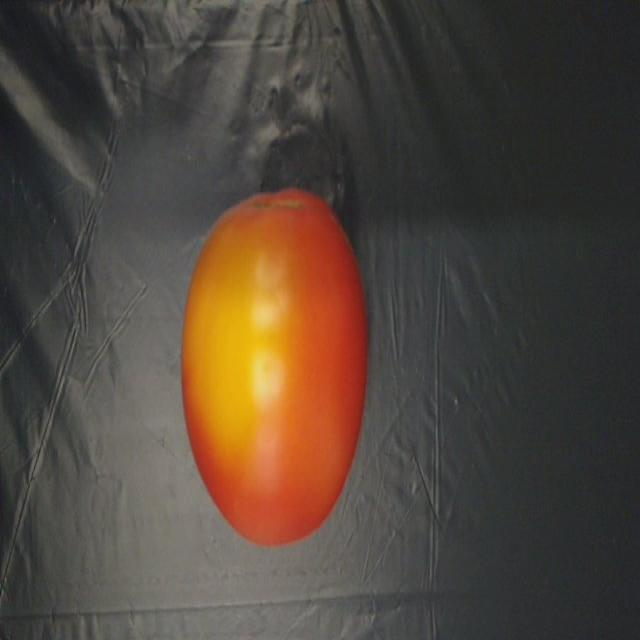sari: (174, 175, 367, 552)
